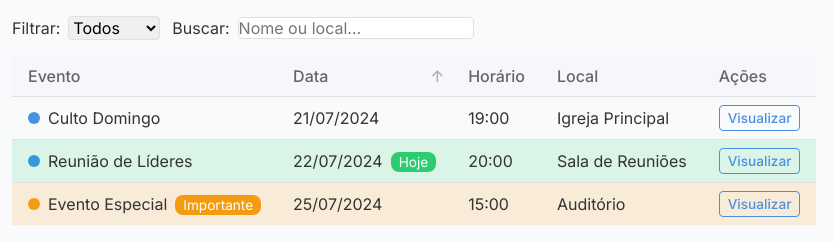
Test: UpcomingEventsTable › busca eventos por texto
Buscar por "Domingo"
Type "Domingo" into the field named "Buscar eventos por nome ou local".
click(356, 28); type("Domingo")  # box [238,16,474,38]
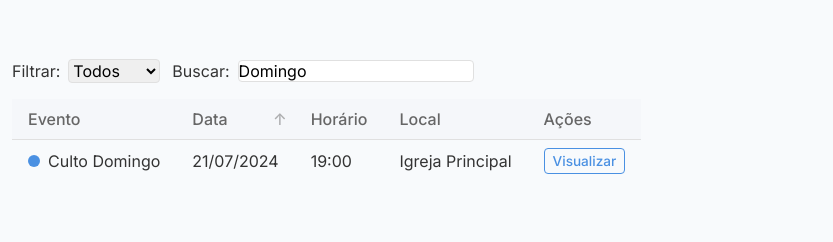
Expected: the text "Culto Domingo" is shown, [12,139,176,182]
Expected: the text "Reunião de Líderes" is gone
Expected: the text "Evento Especial" is gone
Buscar por "Sala"
Replace the text in the field named "Buscar eventos por nome ou local" with "Sala" at (356, 70), box [238,60,474,82]
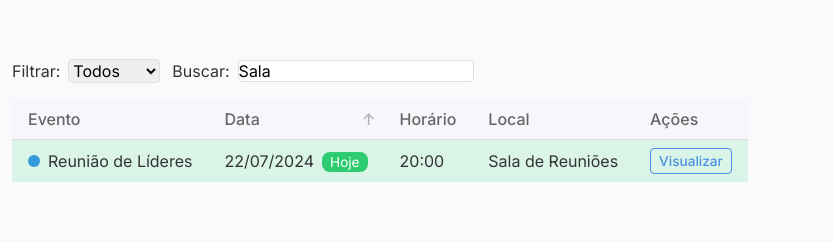
Expected: the text "Evento Especial" is not shown
Expected: the text "Culto Domingo" is gone
Expected: the text "Reunião de Líderes" is shown, [12,139,208,182]
